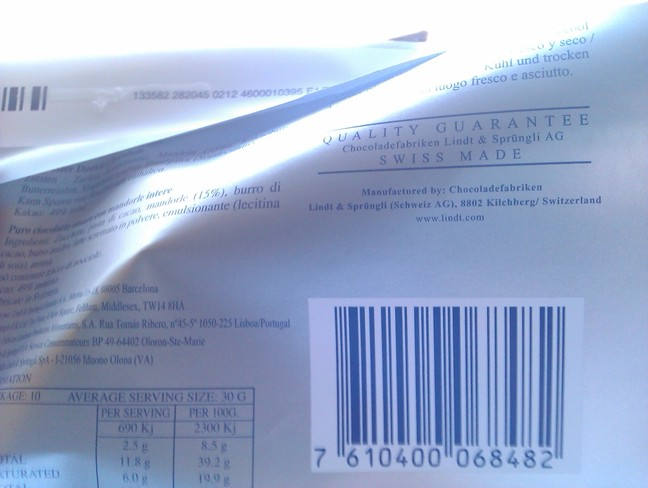detection: (311, 299, 583, 470)
